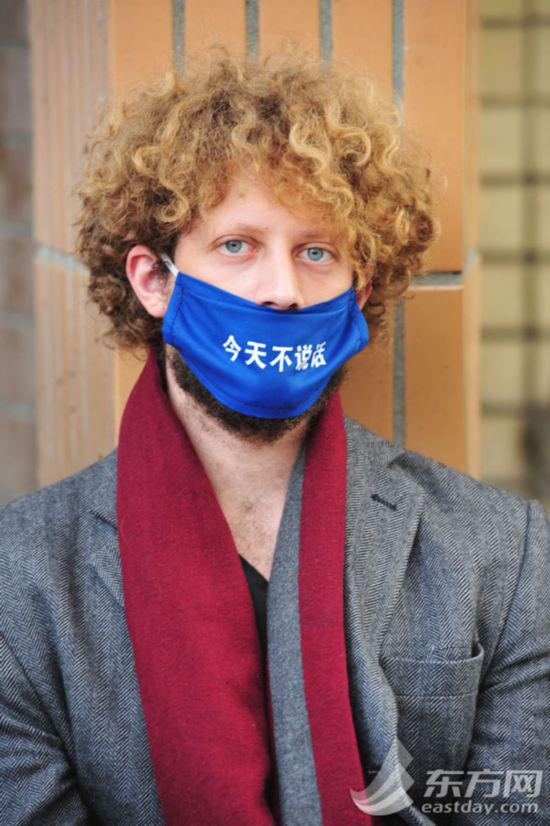WRONG: (172, 217, 363, 408)
